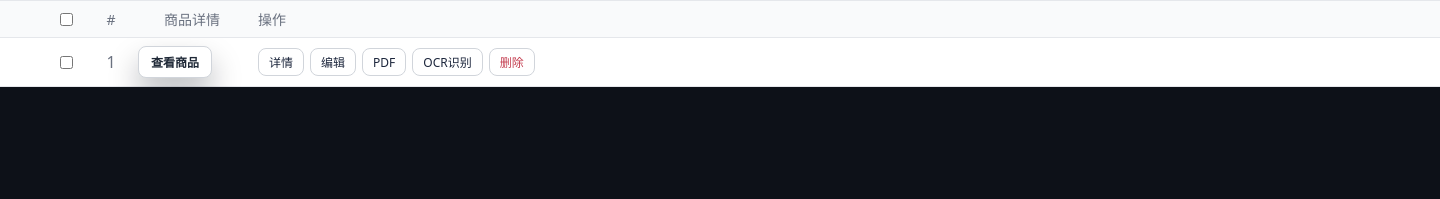
Test case: WorkspaceTable › keeps submenu text plain when the current column is wide enough
The width and height of the screenshot is (1440, 199).
Click the button "查看商品" at (175, 62), box [138,46,212,78]
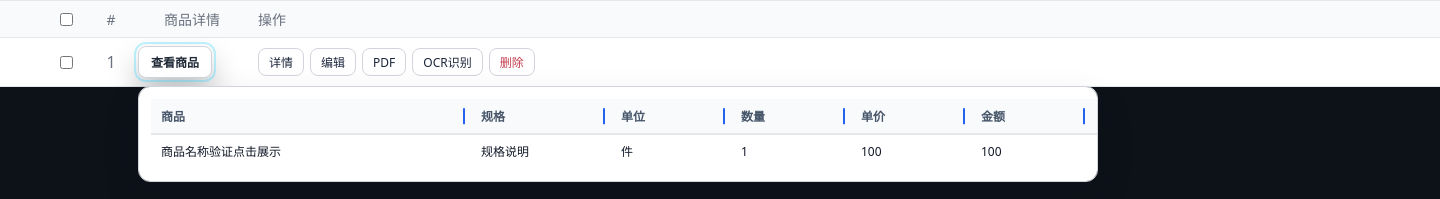
Expected: the text "商品名称验证点击展示" is shown, [161,143,281,160]
